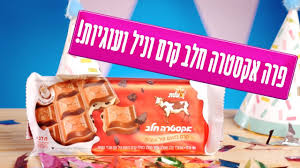Chocolate: (20, 69, 228, 160)
